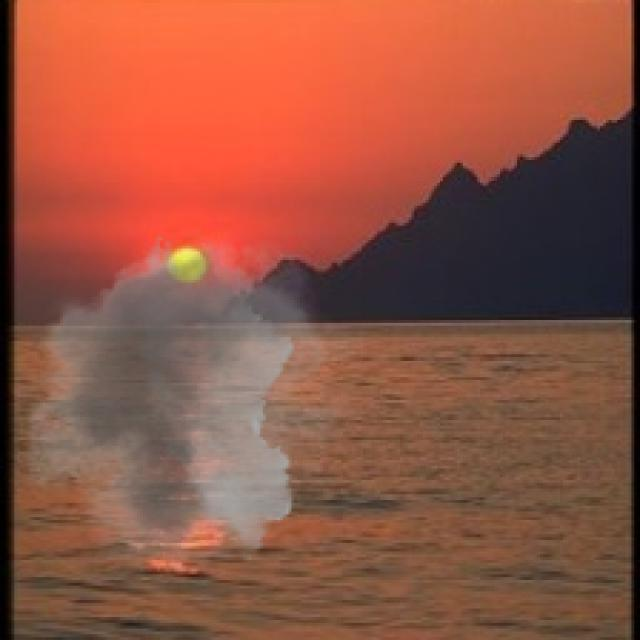Smoke: (8, 222, 366, 574)
